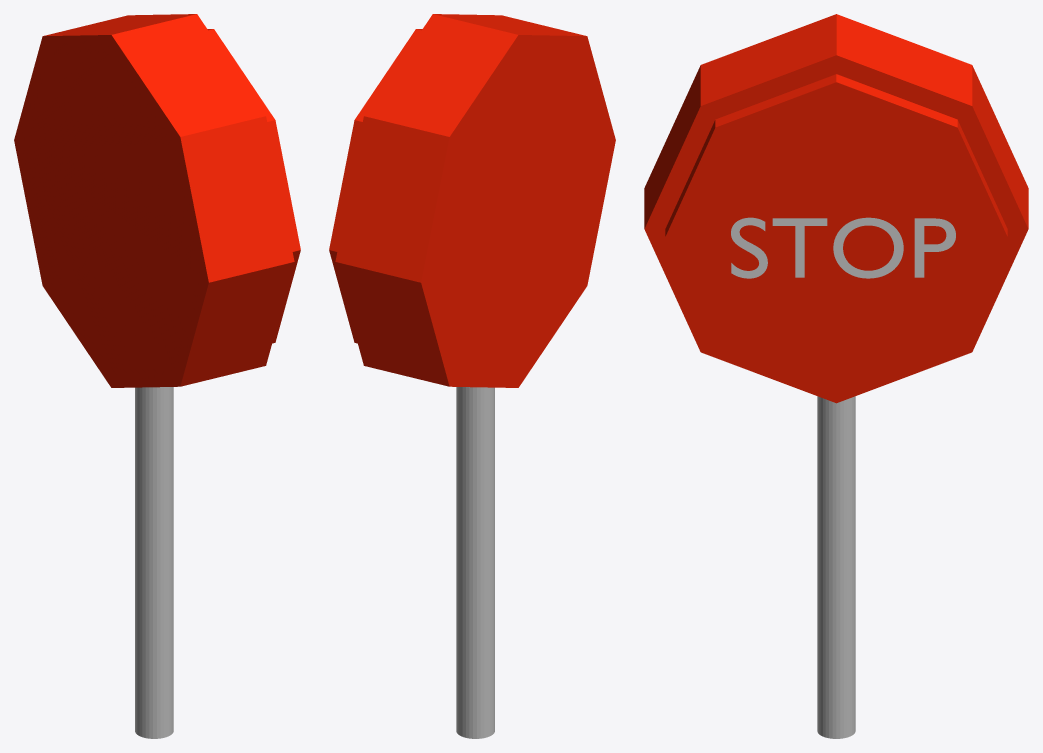
File: StopSign.fbx
The picture shows the model from 3 angles, left to right: view 1: azimuth 30°, elevation 25°; view 2: azimuth 150°, elevation 25°; view 3: azimuth 270°, elevation 25°; orthographic projection.
Parts seen in each view (by area): view 1: Cylinder.001, Cylinder; view 2: Cylinder.001, Cylinder; view 3: Cylinder.001, Cylinder, Text.
Part boxes in pixels (x1,y1,x2,y2): Cylinder.001: (14,14,300,387); Cylinder: (135,387,173,738); Cylinder.001: (329,14,615,387); Cylinder: (456,387,494,738); Cylinder.001: (644,14,1028,403); Cylinder: (817,396,855,738); Text: (731,217,955,278).
Size of the model in its own units: 6.34 by 40 by 20.
